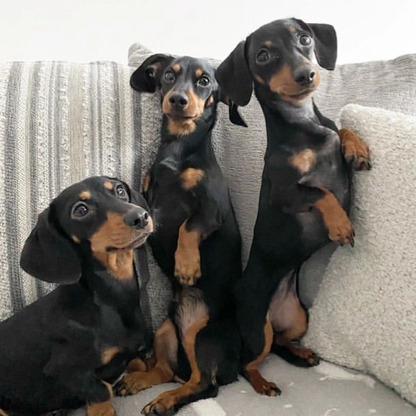dachshund: (229, 13, 375, 367), (3, 175, 157, 368), (129, 38, 230, 310)
